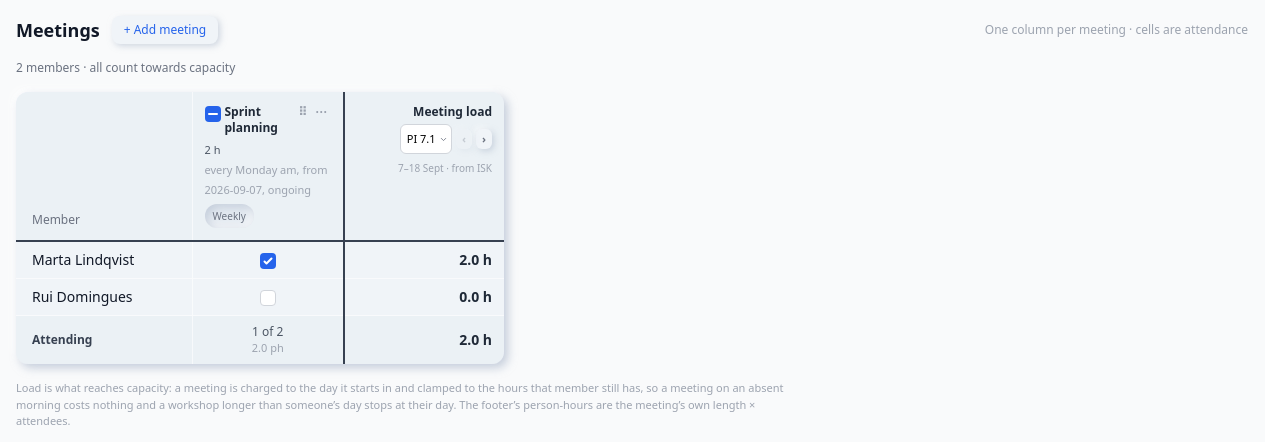
it: MeetingsView › reads “—” for an undated sprint rather than zero
The width and height of the screenshot is (1265, 442).
Select "PI 7.2" in the dropdown named "sprint for meeting load" at (426, 139), box [400,124,452,154]
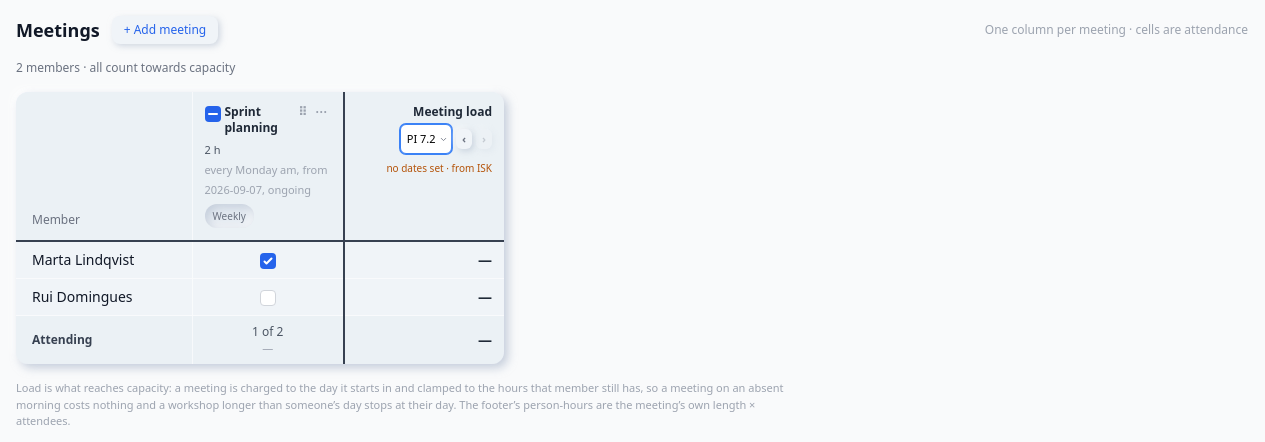
Expected: the checkbox named "Marta Lindqvist attends Sprint planning" is checked, [260,253,276,269]
Now the 1st text "—" is shown, box [344,241,504,278]
Now the text "2.0 h" is gone
